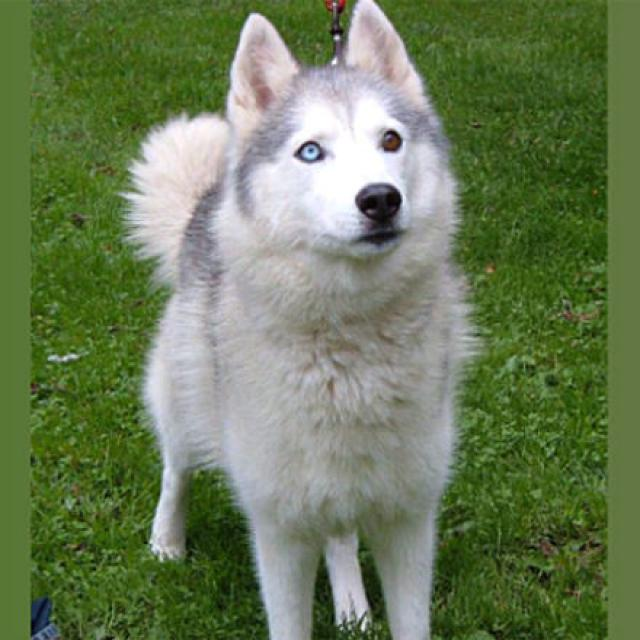Dogs: (117, 0, 484, 639)
